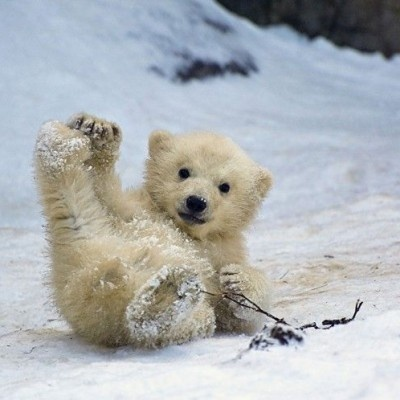Polar Bear: (24, 100, 304, 374)
